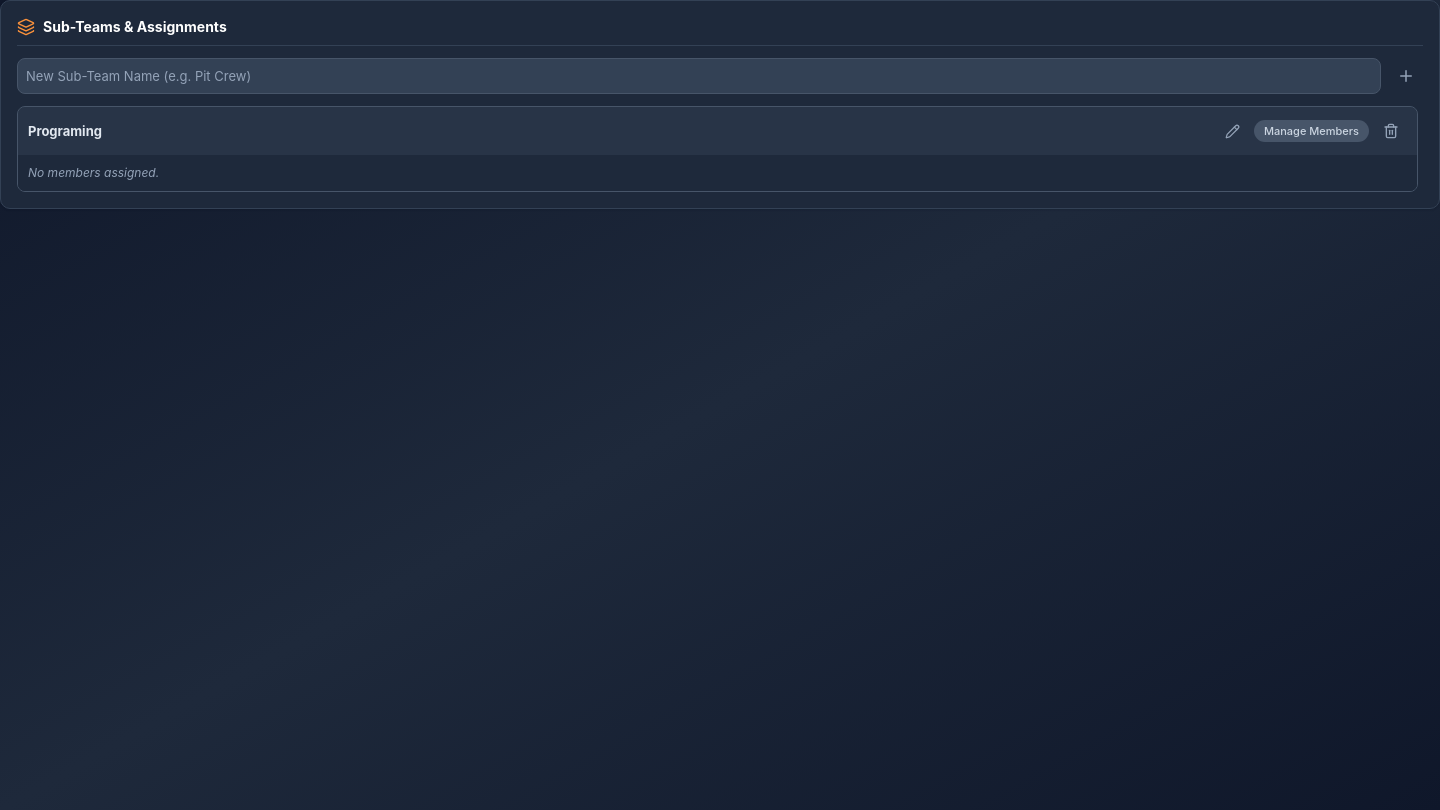
Scenario: renaming in SubTeamManager › leaves the store untouched when the rename is cancelled
Click the button with test id "rename-sub-team": (1232, 131) [1217,116,1248,146]
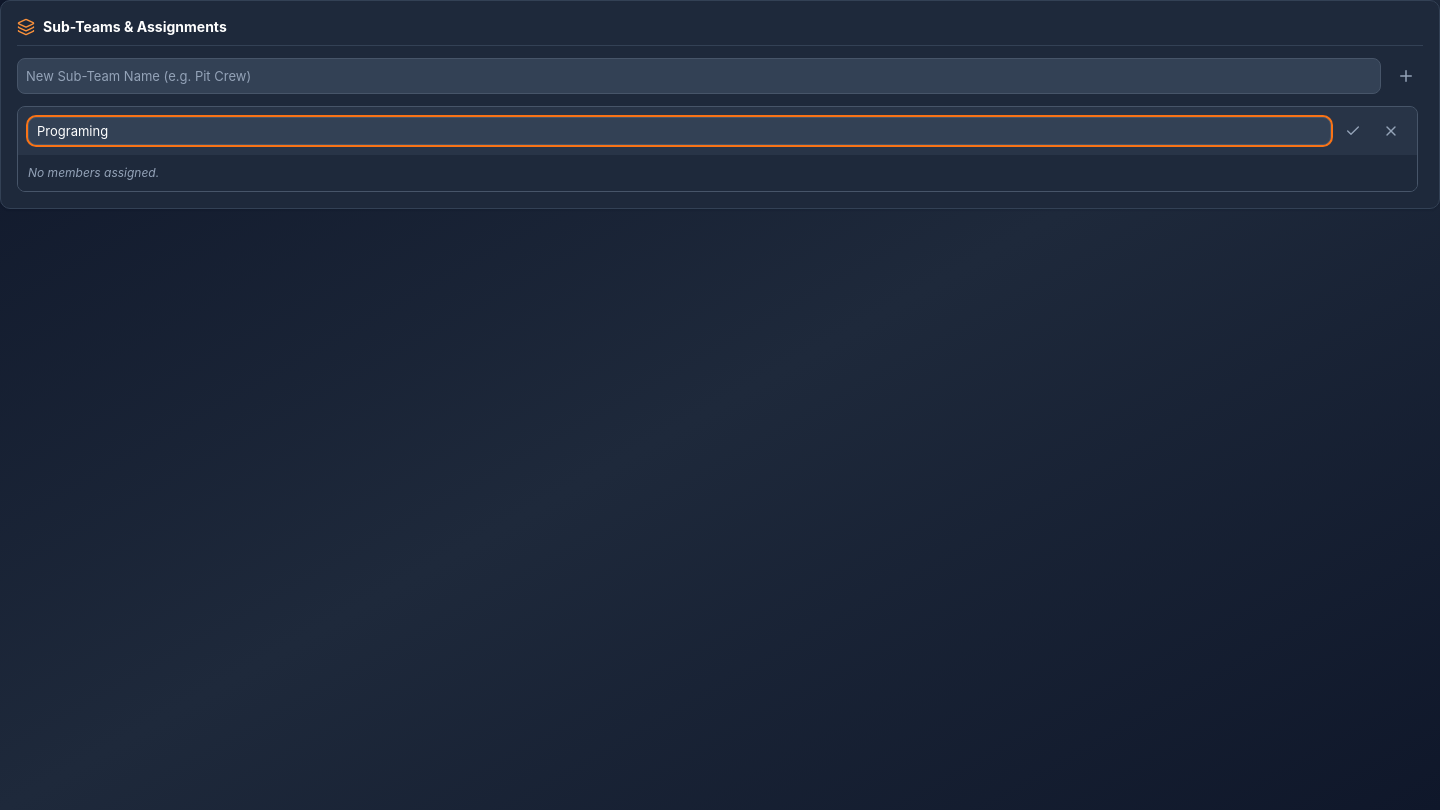
Replace the text in the field with test id "rename-sub-team-input" with "Something else entirely": (680, 131) [28,117,1331,145]
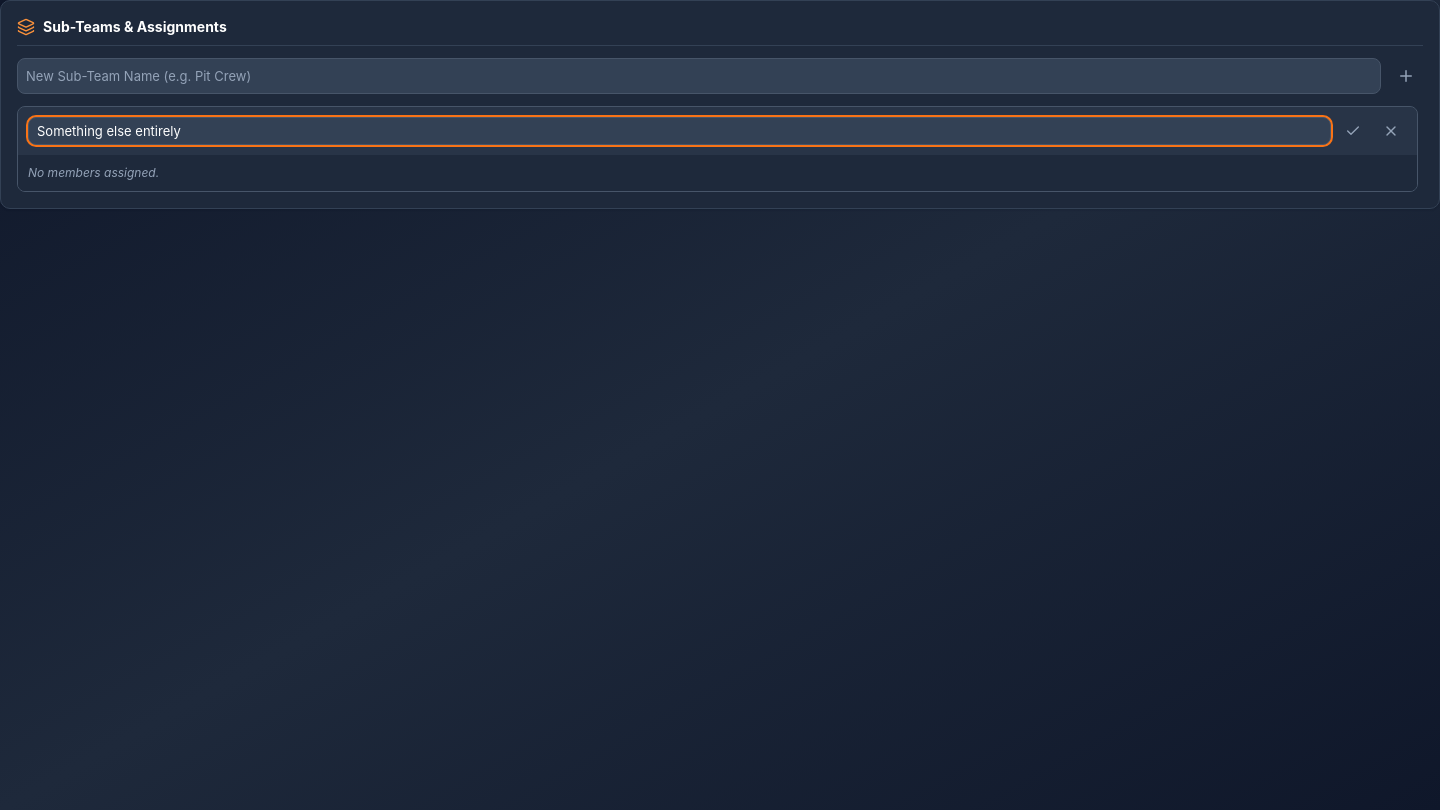
Click the button with test id "rename-sub-team-cancel": (1391, 131) [1375,115,1407,147]
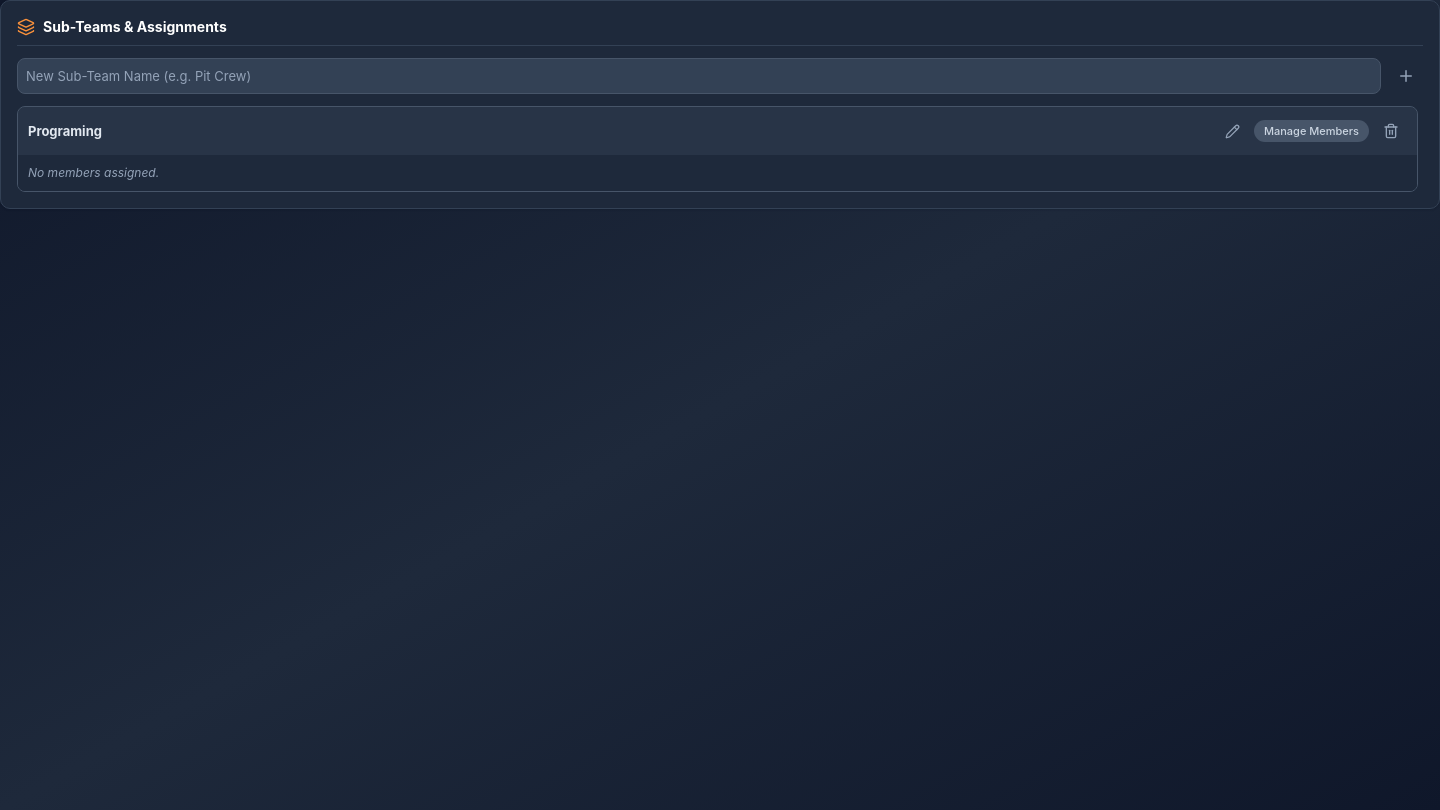
Expected: the heading "Programing" is shown, [28,122,102,140]
Expected: the field with test id "rename-sub-team-input" is gone
